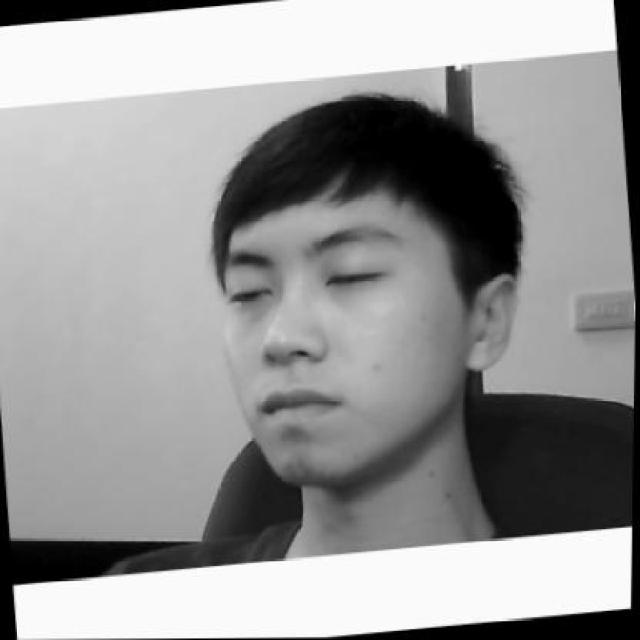inattentif: (199, 78, 536, 490)
